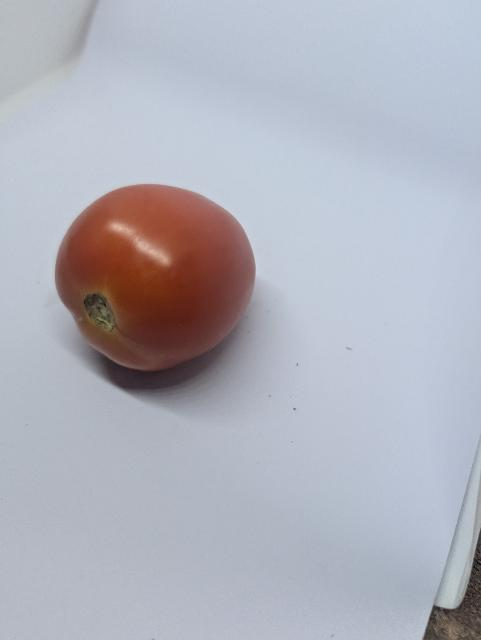red: (55, 179, 256, 379)
